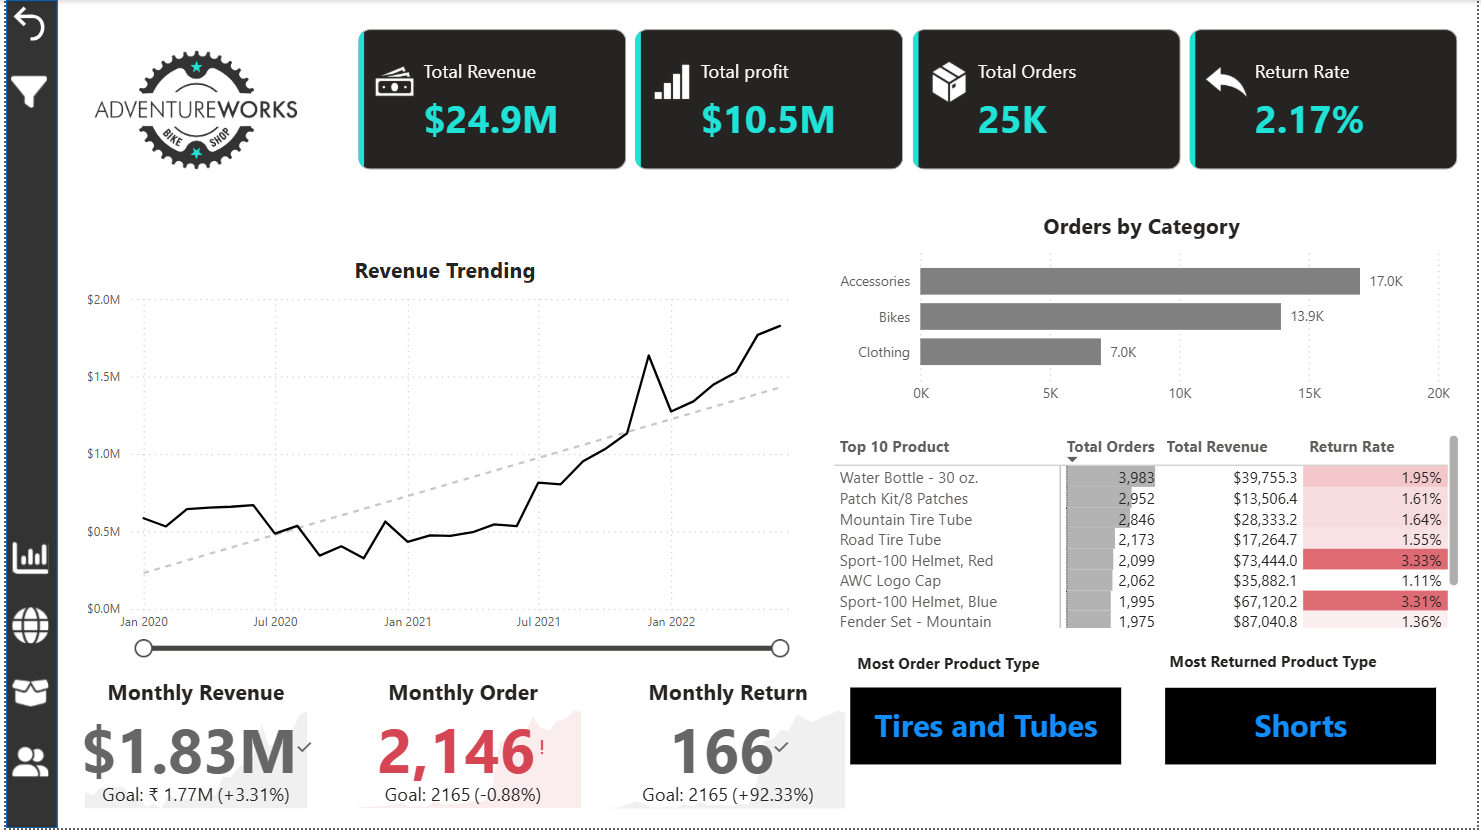

The page's visual inventory and layout, read from the dashboard file:
{"tool":"powerbi","page":{"name":"Exec Dashboard","canvas":[1280,720],"ordinal":0},"visuals":[{"type":"image","title":"AW_logo","box":[52.3,0,225.9,191.4],"z":0},{"type":"actionButton","box":[0.7,465.2,100.5,39.5],"z":0,"group":"g1"},{"type":"shape","title":"Left_Navigation","box":[0,0,45,720.3],"z":1000},{"type":"actionButton","box":[0.7,523.7,100.5,39.9],"z":1000,"group":"g1"},{"type":"actionButton","box":[0.7,582.8,100.5,39.9],"z":2000,"group":"g1"},{"type":"lineChart","title":"Revenue Trending","fields":{"Category":["Calendar Lookup.Year","Calendar Lookup.Start of Quarter","Calendar Lookup.Start of Month"],"Y":["Measure Table.Total Revenue"]},"box":[64,221.3,634.6,353.3],"z":3000},{"type":"actionButton","box":[0.7,641.8,100.5,39.9],"z":3000,"group":"g1"},{"type":"kpi","title":"Monthly Revenue","fields":{"Goal":["Measure Table.Previous Month Revenue"],"Indicator":["Measure Table.Total Revenue"],"TrendLine":["Calendar Lookup.Start of Month"]},"box":[63.3,588,203.8,119.8],"z":4000},{"type":"kpi","title":"Monthly Order","fields":{"Goal":["Measure Table.Previous Month Order"],"Indicator":["Measure Table.Total Orders"],"TrendLine":["Calendar Lookup.Start of Month"]},"box":[289.2,588,216.2,119.8],"z":5000},{"type":"clusteredBarChart","title":"Orders by Category","fields":{"Category":["Product Categories Lookup.CategoryName"],"Y":["Measure Table.Total Orders"]},"box":[715.1,183,545.3,177],"z":6000},{"type":"kpi","title":"Monthly Return","fields":{"Goal":["Measure Table.Previous Month Order"],"Indicator":["Measure Table.total Returns"],"TrendLine":["Calendar Lookup.Start of Month"]},"box":[521.9,588,213.5,119.8],"z":7000},{"type":"pivotTable","fields":{"Rows":["Product Categories Lookup.CategoryName","Product Lookup.ProductName"],"Values":["Measure Table.Total Orders","Measure Table.Total Revenue","Measure Table.return rate"]},"box":[715.1,373.1,553.7,178.2],"z":8000},{"type":"card","fields":{"Values":["Min(Product Subcategories Lookup.SubcategoryName)"]},"box":[734.3,597.9,235.6,67],"z":9000},{"type":"textbox","box":[735.5,562.1,235.6,35.9],"z":10000},{"type":"card","fields":{"Values":["Min(Product Subcategories Lookup.SubcategoryName)"]},"box":[1008.1,597.9,235.6,67],"z":11000},{"type":"textbox","box":[1006.9,560.9,235.6,37.1],"z":12000},{"type":"actionButton","box":[0,0,45.4,39.9],"z":13000},{"type":"group","id":"g1","title":"navigation page","box":[0.7,465.2,100.5,216.5],"z":14000},{"type":"actionButton","box":[0,59.8,100.5,39.5],"z":15000},{"type":"cardVisual","fields":{"Data":["Measure Table.Total Revenue","Measure Table.Total profit","Measure Table.Total Orders","Measure Table.Return Rate"]},"box":[301.6,20.7,966.8,132.2],"z":16001}]}

Visuals, with their boxes on the page's 1280x720 design canvas (x1, y1, x2, y2). These are canvas units, not pixel positions in the 1481x830 screenshot, which may show the page scaled, cropped or inside an application window:
"AW_logo" image: x1=52 y1=0 x2=278 y2=191
actionButton: x1=1 y1=465 x2=101 y2=505
"Left_Navigation" shape: x1=0 y1=0 x2=45 y2=720
actionButton: x1=1 y1=524 x2=101 y2=564
actionButton: x1=1 y1=583 x2=101 y2=623
"Revenue Trending" lineChart: x1=64 y1=221 x2=699 y2=575
actionButton: x1=1 y1=642 x2=101 y2=682
"Monthly Revenue" kpi: x1=63 y1=588 x2=267 y2=708
"Monthly Order" kpi: x1=289 y1=588 x2=505 y2=708
"Orders by Category" clusteredBarChart: x1=715 y1=183 x2=1260 y2=360
"Monthly Return" kpi: x1=522 y1=588 x2=735 y2=708
pivotTable - Product Categories Lookup.CategoryName x Product Lookup.ProductName: x1=715 y1=373 x2=1269 y2=551
card - Min(Product Subcategories Lookup.SubcategoryName): x1=734 y1=598 x2=970 y2=665
textbox: x1=736 y1=562 x2=971 y2=598
card - Min(Product Subcategories Lookup.SubcategoryName): x1=1008 y1=598 x2=1244 y2=665
textbox: x1=1007 y1=561 x2=1242 y2=598
actionButton: x1=0 y1=0 x2=45 y2=40
"navigation page" group: x1=1 y1=465 x2=101 y2=682
actionButton: x1=0 y1=60 x2=100 y2=99
cardVisual - Measure Table.Total Revenue x Measure Table.Total profit: x1=302 y1=21 x2=1268 y2=153
